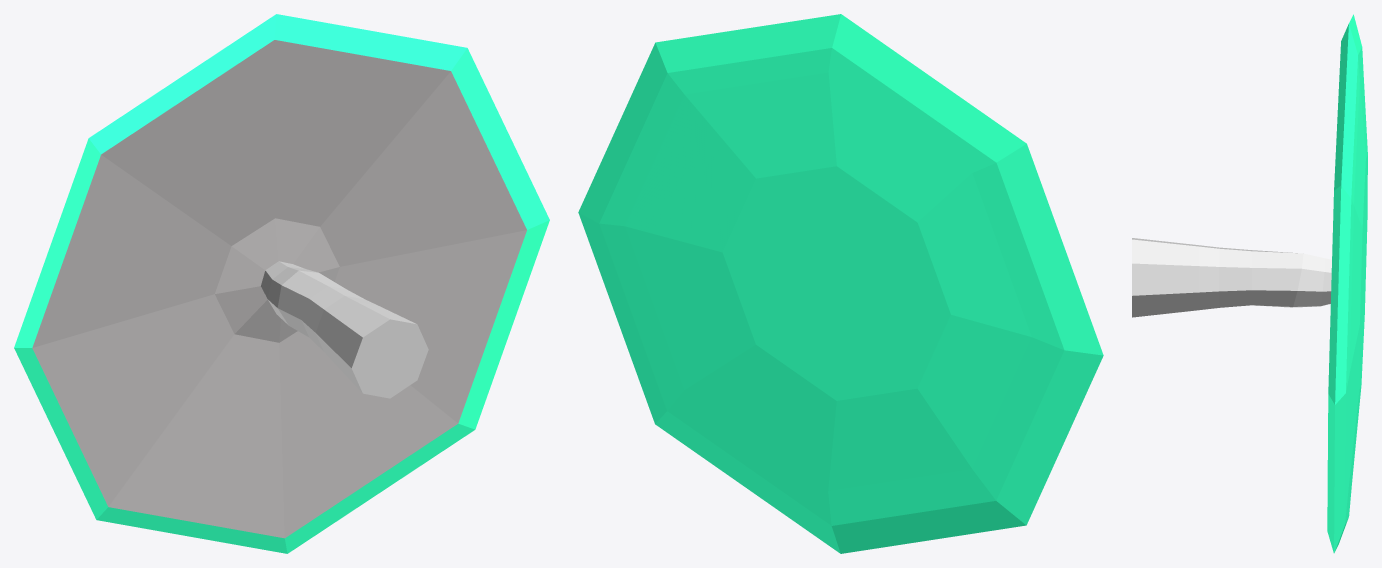
File: Mushroom_3.fbx
The picture shows the model from 3 angles, left to right: view 1: azimuth 30°, elevation 25°; view 2: azimuth 150°, elevation 25°; view 3: azimuth 270°, elevation 25°; orthographic projection. The views are drawn at different scales.
Parts seen in each view (by area): view 1: Mushroom_3; view 2: Mushroom_3; view 3: Mushroom_3.
Boxes of the visible parts, left/top/right/bottom form: Mushroom_3: left=14, top=14, right=549, bottom=553; Mushroom_3: left=578, top=14, right=1103, bottom=553; Mushroom_3: left=1132, top=14, right=1367, bottom=553.
Size of the model in its own units: 139 by 136 by 56.06.
